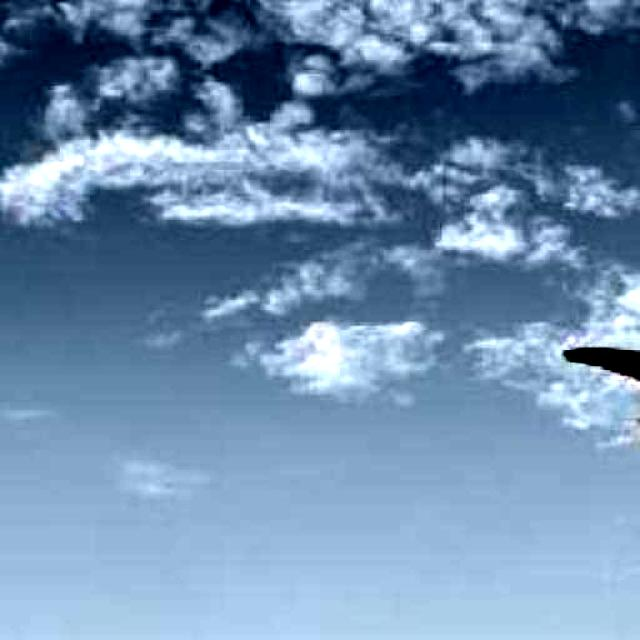airplane: (560, 348, 640, 520)
